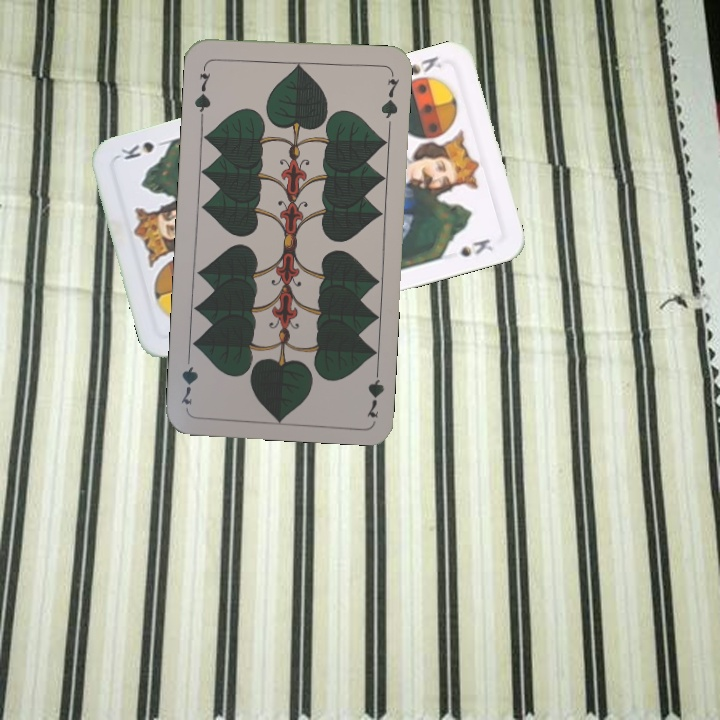G7: (362, 360, 387, 420), (191, 61, 213, 120)
SK: (405, 52, 445, 77)
